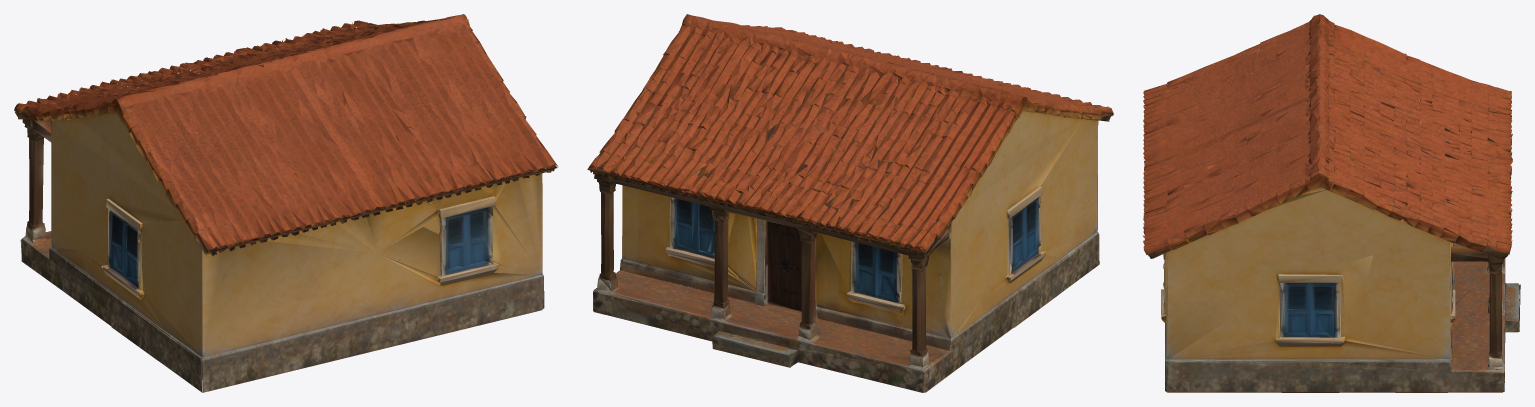
File: house_yellow.gltf
The picture shows the model from 3 angles, left to right: view 1: azimuth 30°, elevation 25°; view 2: azimuth 150°, elevation 25°; view 3: azimuth 270°, elevation 25°; orthographic projection. The views are drawn at different scales.
Parts seen in each view (by area): view 1: house_yellow; view 2: house_yellow; view 3: house_yellow.
Boxes of the visible parts, x1,y1,x2,y2 form: house_yellow: [14, 14, 558, 392]; house_yellow: [587, 14, 1113, 392]; house_yellow: [1142, 14, 1520, 392].
Bounding box in the file's own units: 9.05 × 5.79 × 8.96.
Materials: 1 (1 with a texture image).
